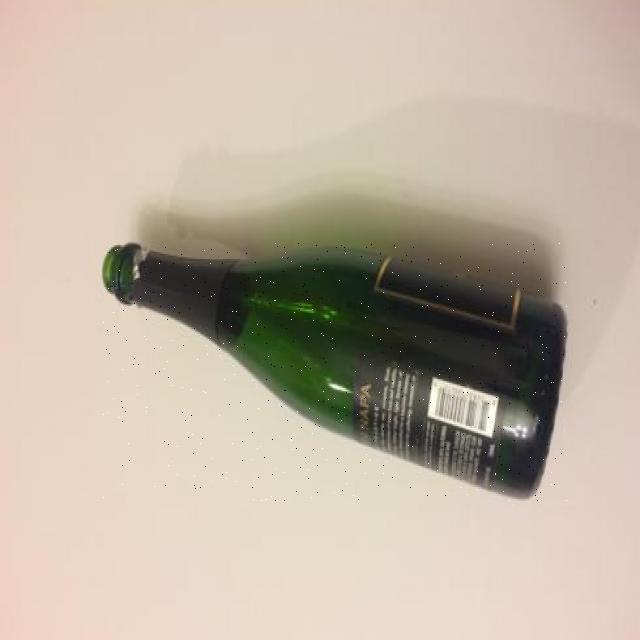glass: (103, 244, 568, 501)
